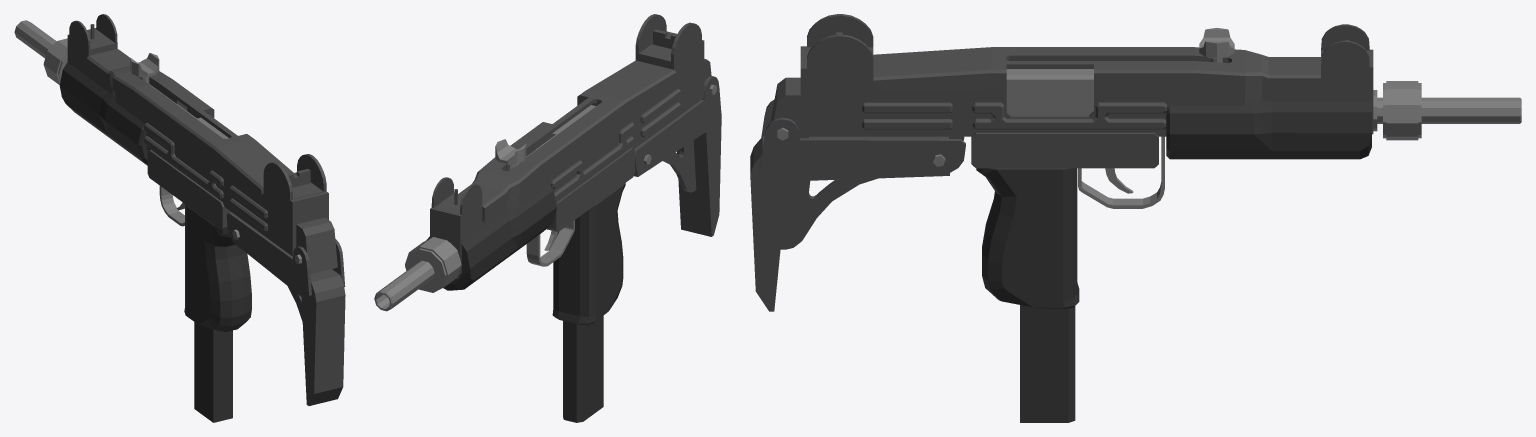
Rendered from weapon-smg.glb.
The picture shows the model from 3 angles, left to right: view 1: azimuth 30°, elevation 25°; view 2: azimuth 150°, elevation 25°; view 3: azimuth 270°, elevation 25°; orthographic projection. The views are drawn at different scales.
Visible parts, largest first — view 1: Uzi_part, Stock_01_part, Magazin_part, Stock_part, Bolt_part; view 2: Uzi_part, Stock_01_part, Magazin_part, Stock_part, Bolt_part; view 3: Uzi_part, Stock_part, Stock_01_part, Magazin_part, Bolt_part.
Boxes of the visible parts, x1=… form: Uzi_part: x1=14, y1=14, x2=337, y2=331; Stock_01_part: x1=245, y1=222, x2=345, y2=405; Magazin_part: x1=194, y1=322, x2=232, y2=422; Stock_part: x1=226, y1=212, x2=345, y2=296; Bolt_part: x1=130, y1=53, x2=228, y2=138; Uzi_part: x1=374, y1=14, x2=711, y2=325; Stock_01_part: x1=633, y1=113, x2=721, y2=236; Magazin_part: x1=563, y1=315, x2=603, y2=422; Stock_part: x1=634, y1=76, x2=721, y2=173; Bolt_part: x1=495, y1=105, x2=595, y2=171; Uzi_part: x1=770, y1=14, x2=1521, y2=308; Stock_part: x1=759, y1=99, x2=965, y2=174; Stock_01_part: x1=750, y1=136, x2=949, y2=311; Magazin_part: x1=1020, y1=305, x2=1075, y2=422; Bolt_part: x1=1006, y1=28, x2=1234, y2=114.
Bounding box in the file's own units: 0.696 × 4.11 × 7.33.
Materials: 1 (1 with a texture image).
